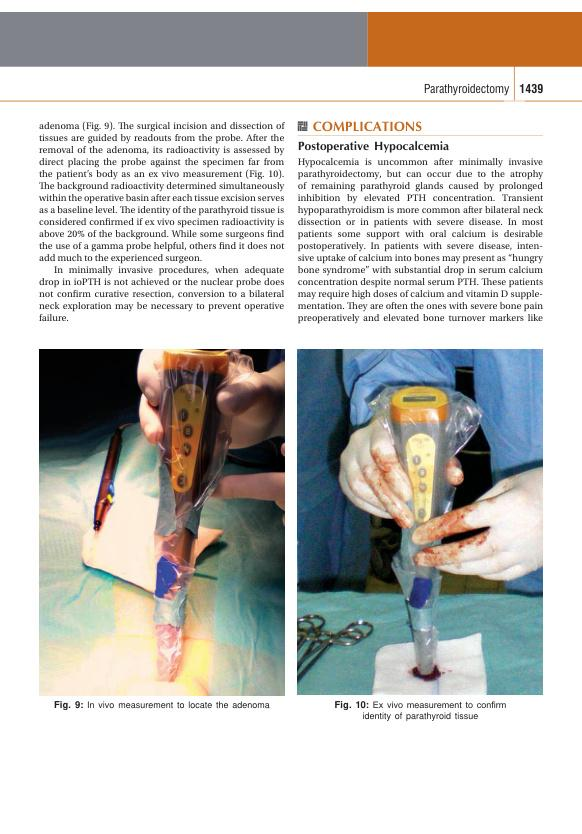caption: (333, 699, 508, 722), (52, 699, 272, 711)
header: (423, 82, 511, 96)
image: (39, 349, 287, 696), (296, 348, 542, 696)
section-heading: (311, 120, 424, 133)
sub-section-heading: (296, 139, 451, 154)
text: (37, 120, 286, 323), (297, 156, 544, 325)
